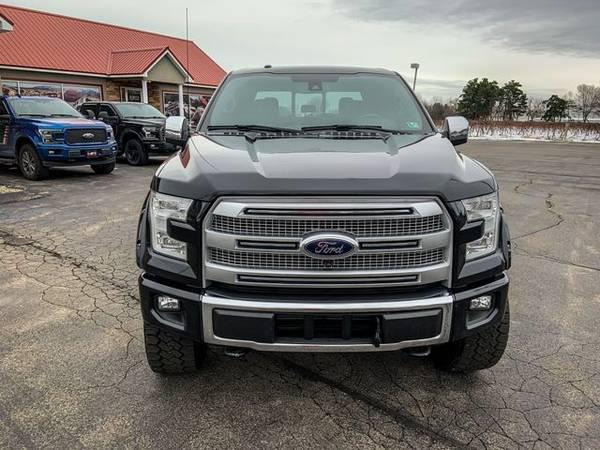Front_Bumper: (133, 237, 511, 357)
Front_Windshield: (198, 69, 433, 132)
Grille: (194, 186, 463, 289)
Hood: (152, 126, 502, 197)
Left_Headlight: (449, 191, 503, 260)
Left_Mirror: (446, 115, 468, 144)
Right_Headlight: (137, 183, 201, 266)
Right_Mirror: (163, 110, 188, 148)
